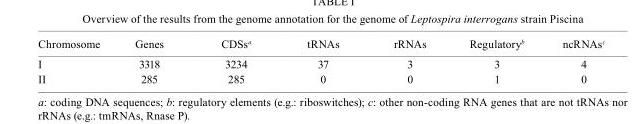table: (37, 36, 604, 84)
table column: (447, 36, 542, 84), (191, 36, 278, 84), (278, 36, 365, 84), (365, 36, 447, 84), (37, 36, 116, 84), (116, 36, 191, 84), (542, 36, 604, 84)
table column header: (37, 36, 604, 53)
table row: (37, 36, 604, 53), (37, 53, 604, 70), (37, 70, 604, 84)
